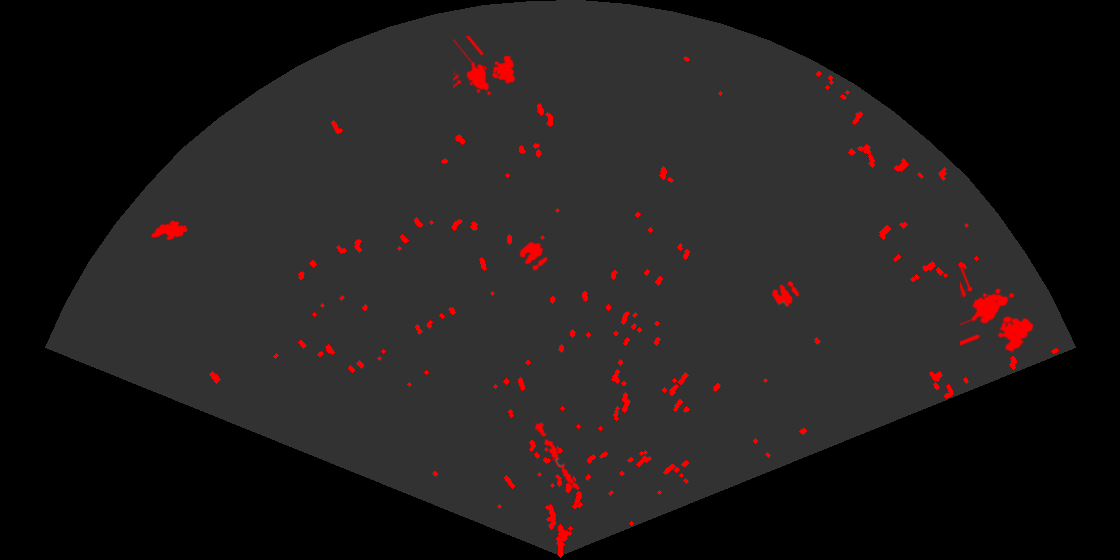AUV: (149, 219, 190, 242)
ball: (518, 240, 549, 272), (770, 279, 801, 308)
cage: (960, 267, 1035, 354), (453, 36, 517, 97)
chain: (531, 417, 581, 492)
